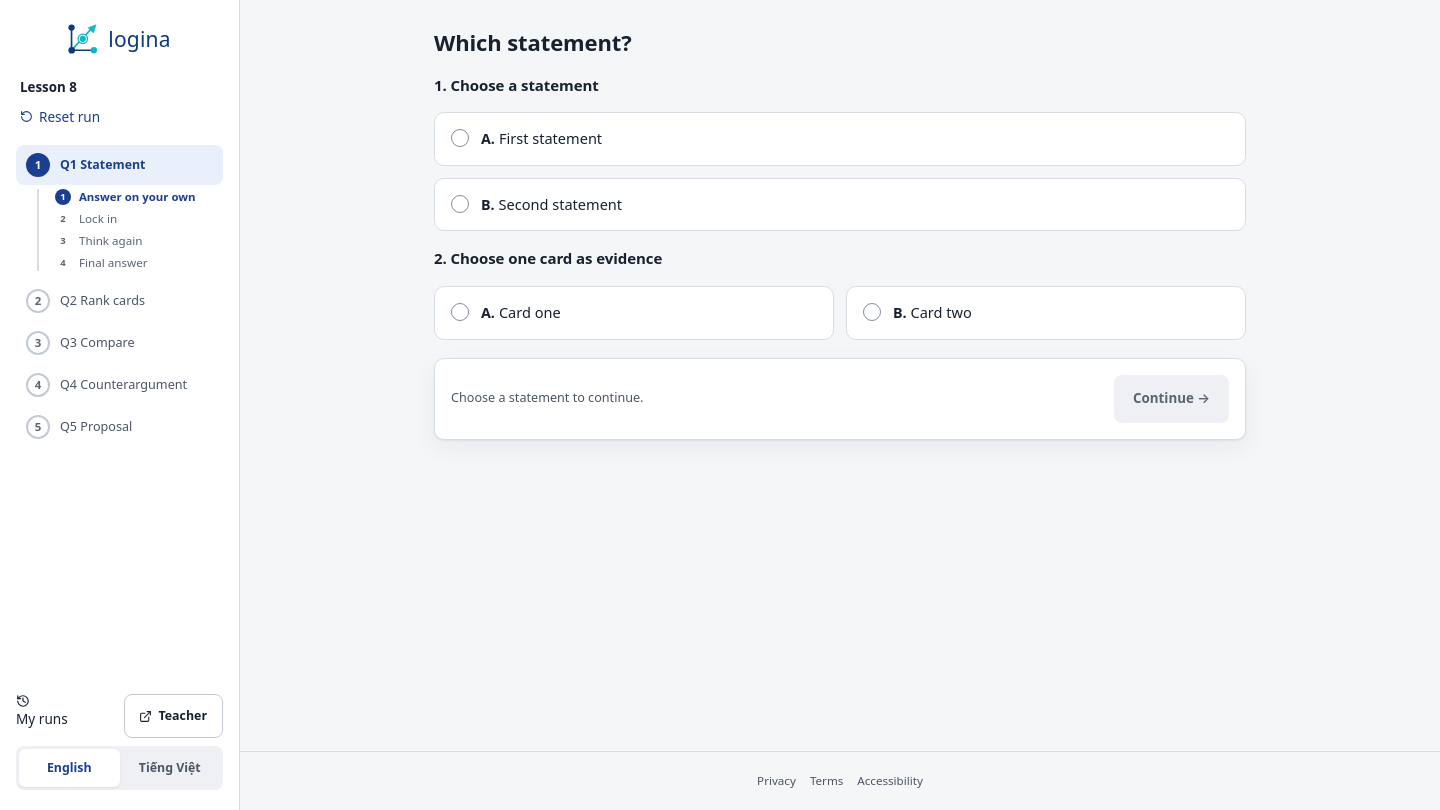
Test: Q1 flow › Continue is enabled only with one answer and one card
Expected: the button "Continue →" is disabled, [1114,375,1229,423]
Click the radio button labelled "A.First statement".
click(551, 138)  # box [434,112,1246,166]
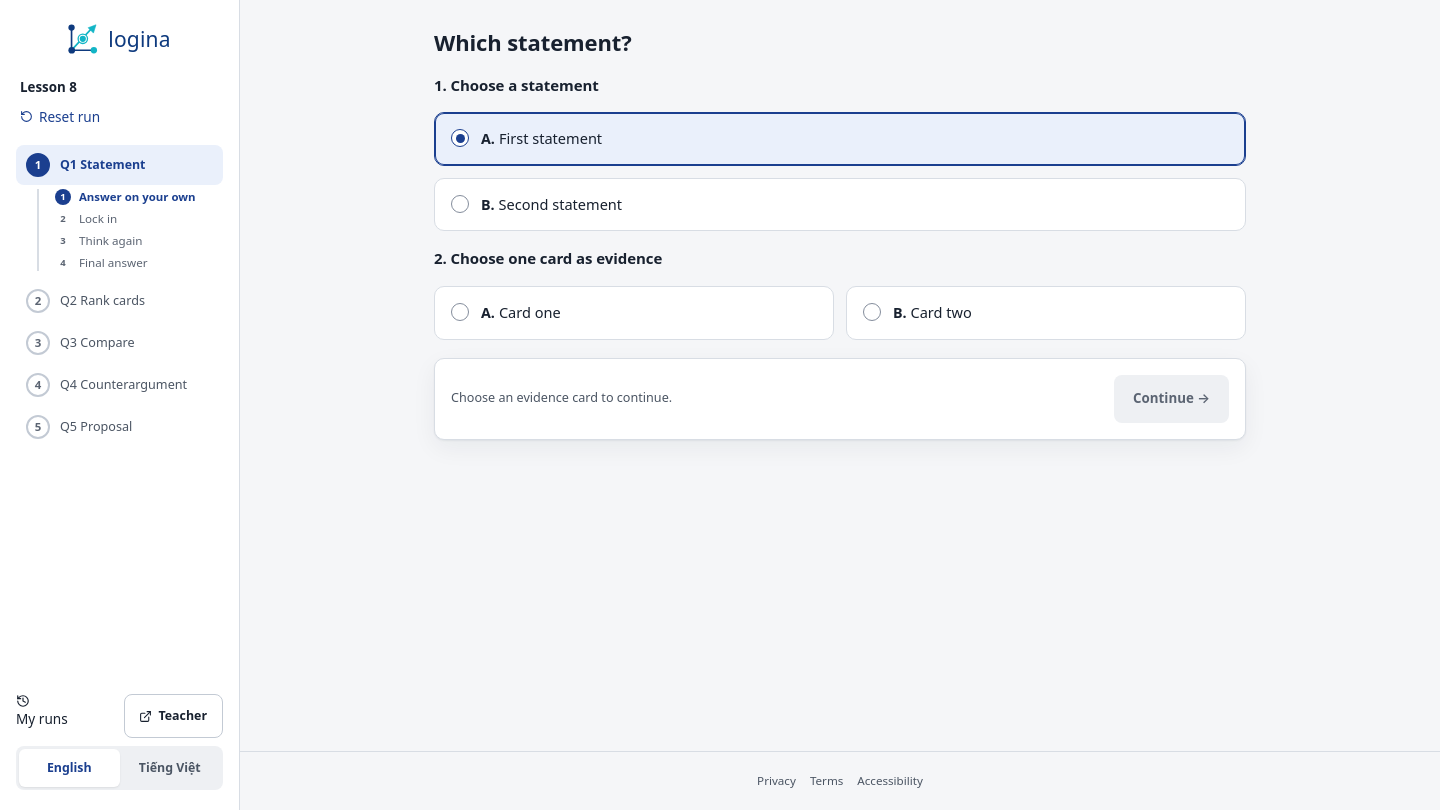
Expected: the button "Continue →" is disabled, [1114,375,1229,423]
Click the radio button labelled "A.Card one".
click(530, 312)  # box [434,286,834,340]
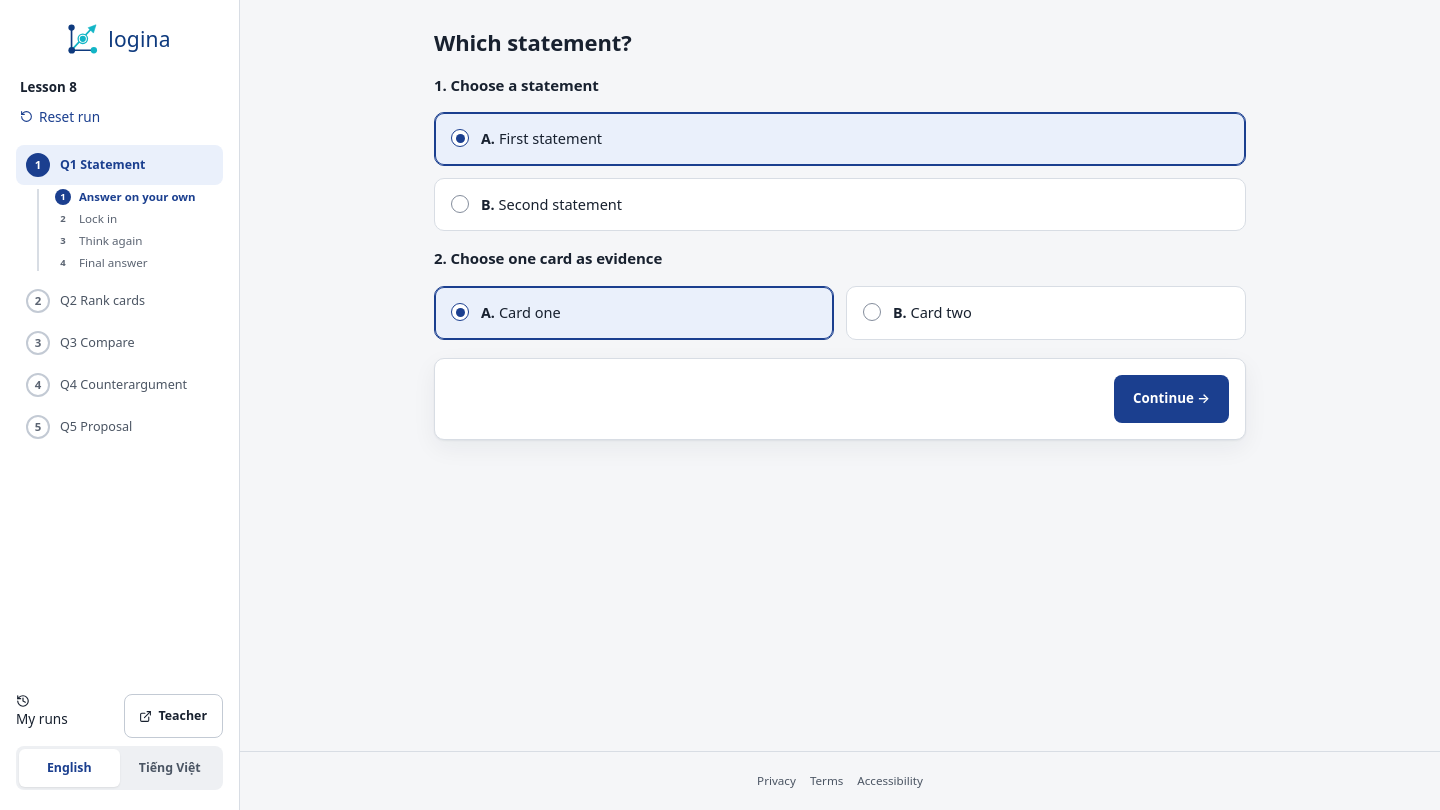
Expected: the button "Continue →" is enabled, [1114,375,1229,423]
